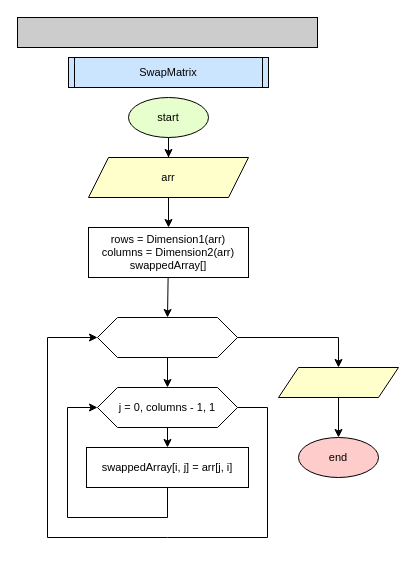
This 416x563 diagram has some shape labels left out. The centre of each missing label's shape, as x and y in pixels:
"i = 0, rows - 1, 1" belongs at (167,337).
"swappedArray[]" belongs at (338,382).
"метод заменяет строки на столбцы" belongs at (167,32).
